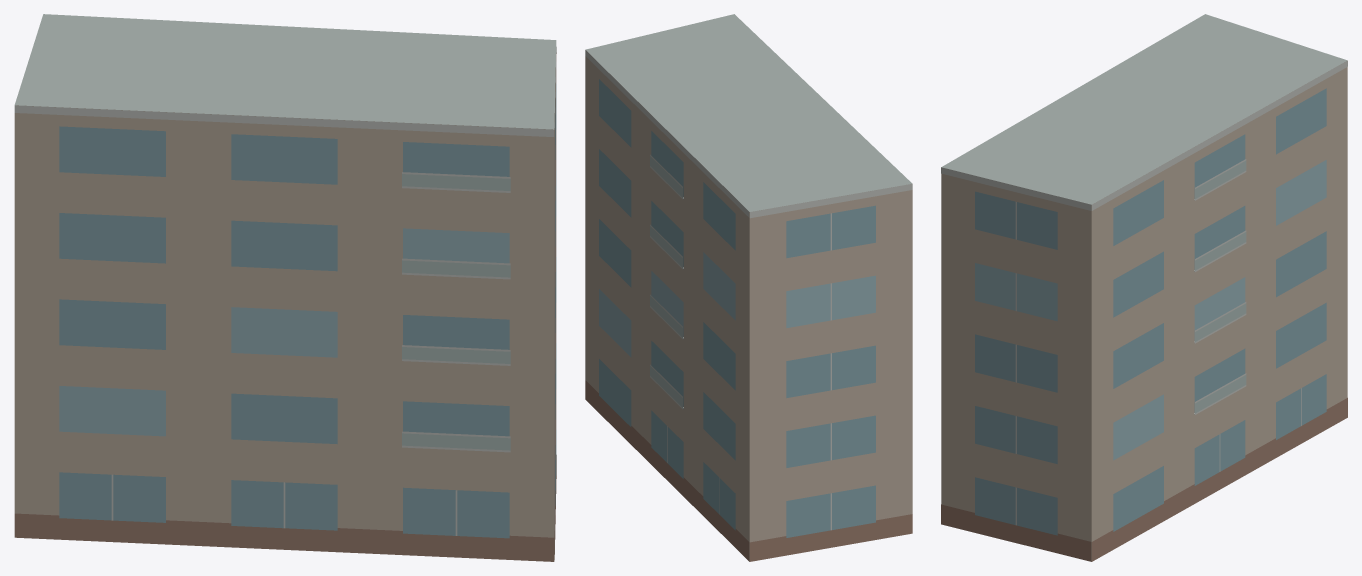
File: survey-upis-32981074.glb
3 renders of one model, left to right at view 1: azimuth 30°, elevation 25°; view 2: azimuth 150°, elevation 25°; view 3: azimuth 270°, elevation 25°, orthographic. The views are drawn at different scales.
Visible parts, largest first — view 1: survey-upis-32981074.tmp; view 2: survey-upis-32981074.tmp; view 3: survey-upis-32981074.tmp.
Part boxes in pixels (x1,y1,x2,y2): survey-upis-32981074.tmp: (14, 14, 556, 561); survey-upis-32981074.tmp: (585, 14, 912, 561); survey-upis-32981074.tmp: (941, 14, 1347, 561).
Size of the model in its own units: 15.76 by 13.75 by 14.2.
